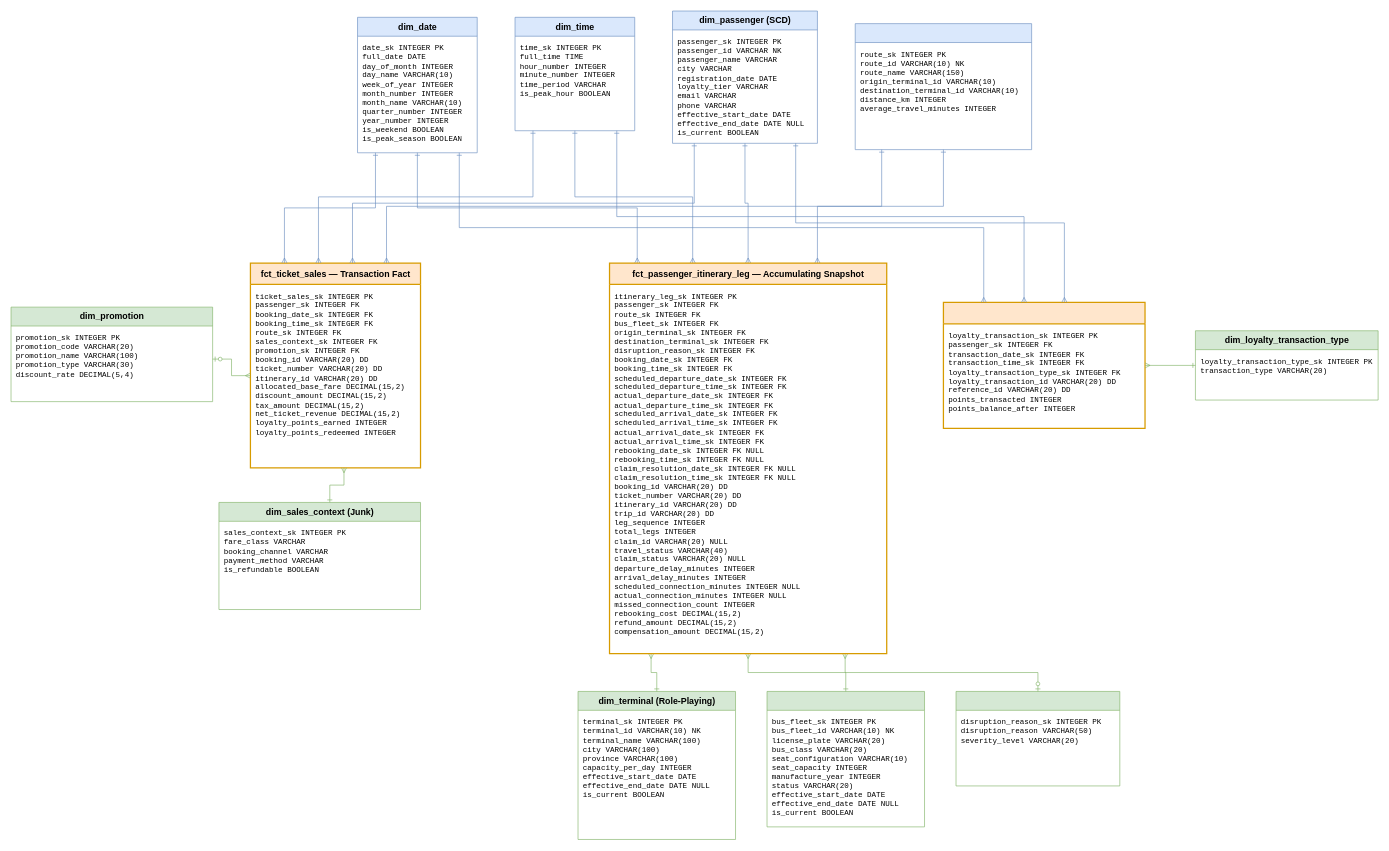
Some shapes in this 1389 by 851 pixel diagram are drawn without their labels. Here are the shapes that lost their labels. From the top down, the box of each, then its label:
(855, 23, 1032, 150): dim_route
(942, 301, 1145, 429): fct_loyalty_transaction — Transaction Fact
(955, 691, 1120, 786): dim_disruption_reason
(766, 691, 925, 827): dim_bus_fleet (SCD)
